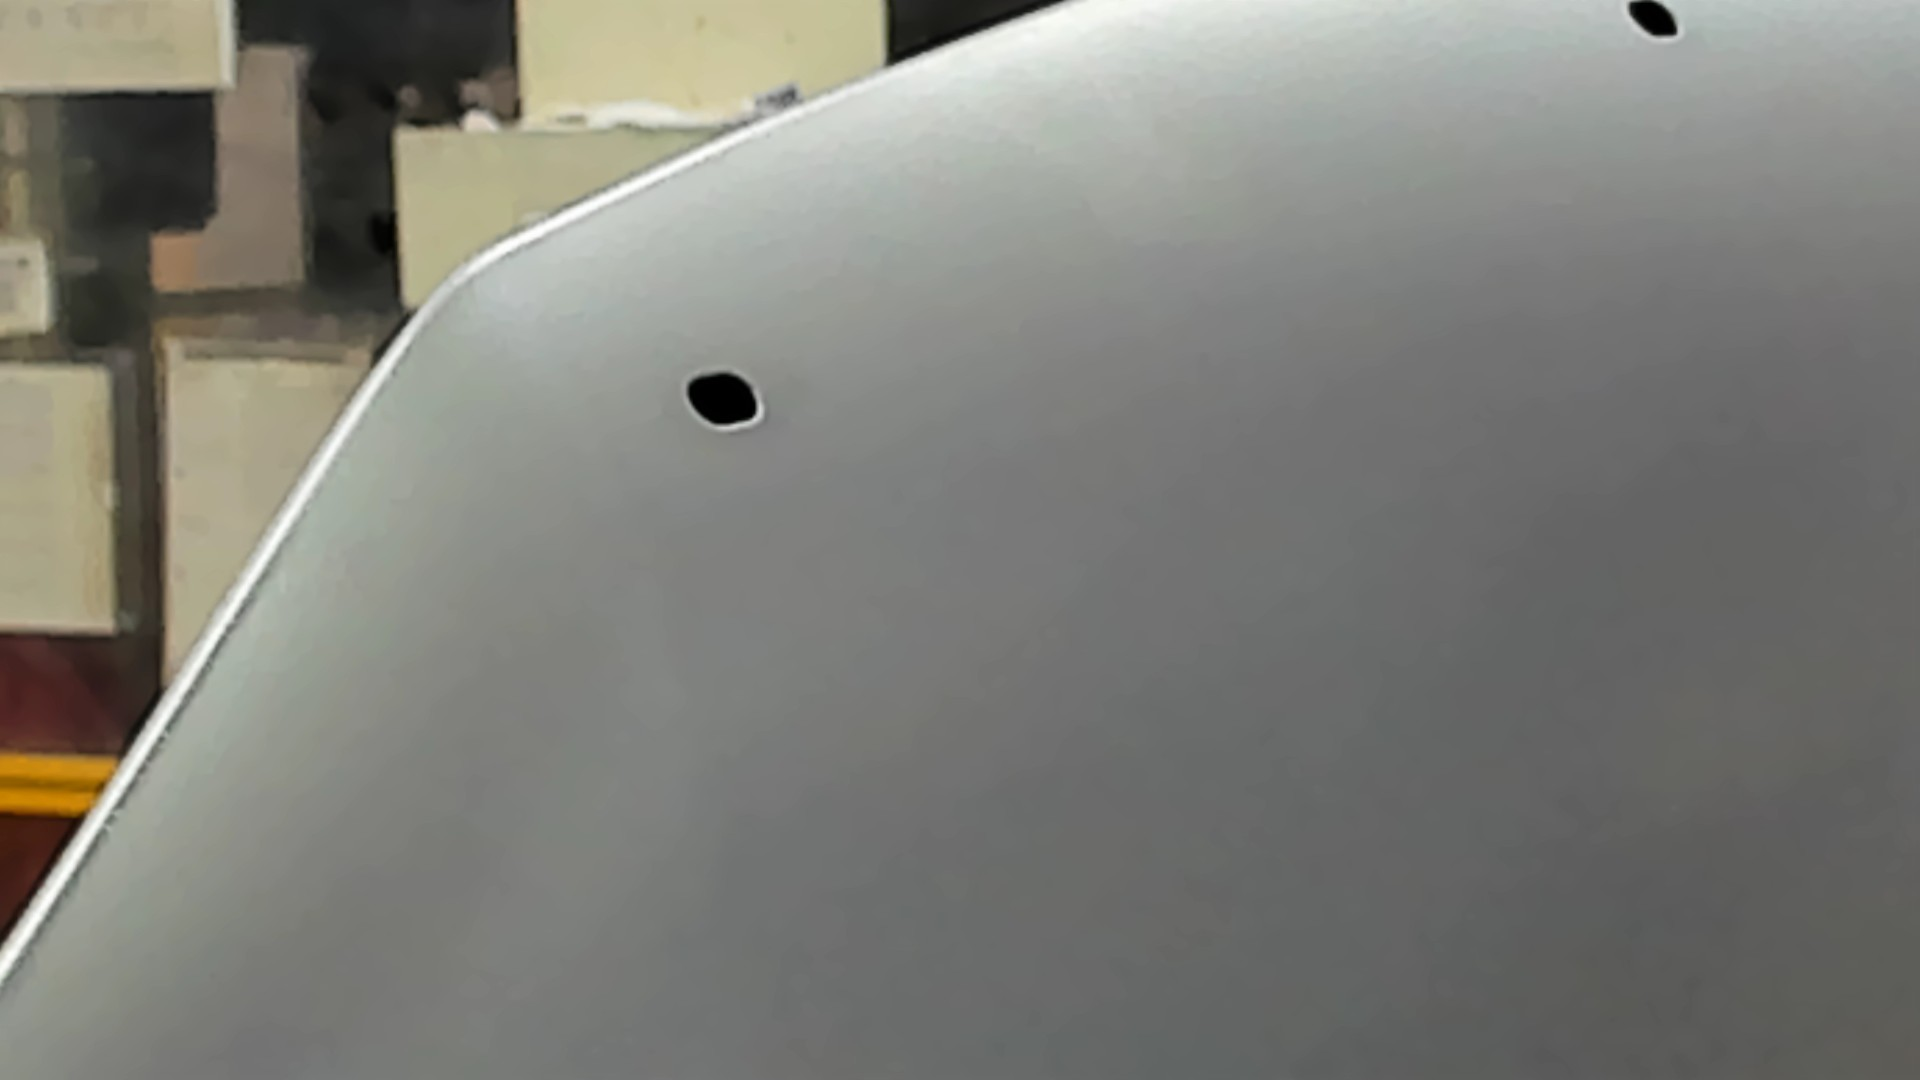amorfo: (676, 361, 769, 442), (1621, 1, 1683, 51)
